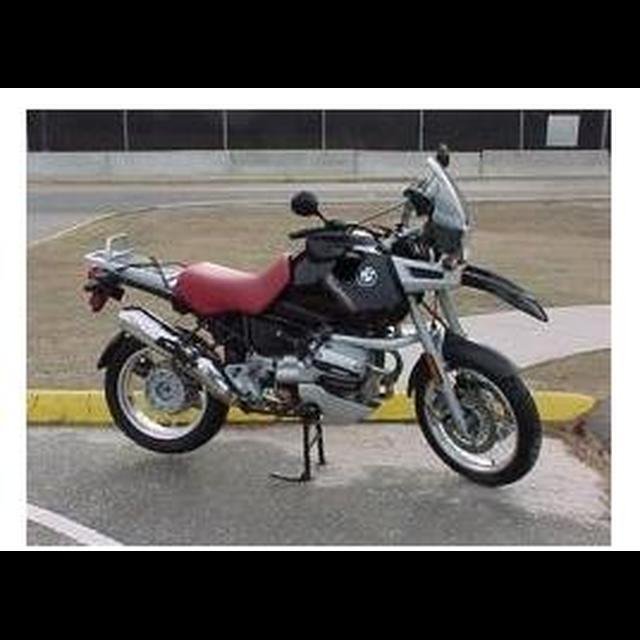motorcycle: (77, 135, 554, 492)
